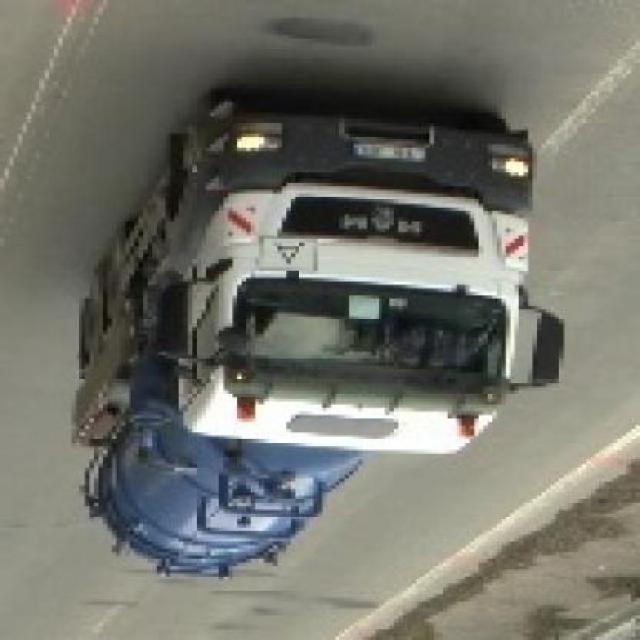truck: (77, 92, 565, 585)
